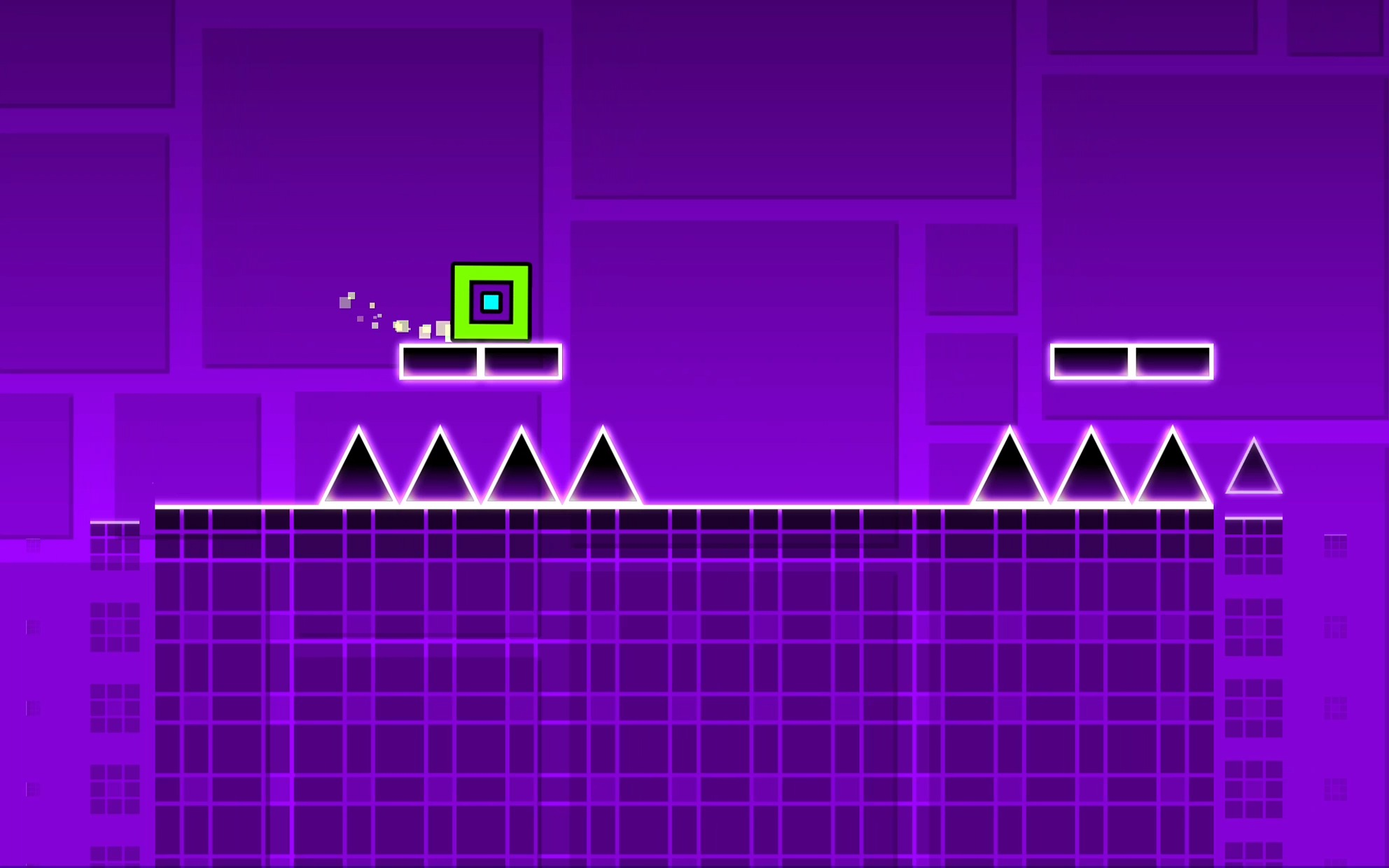Block2: (84, 507, 1306, 868)
Block3: (1129, 345, 1215, 382), (483, 343, 560, 383), (1046, 346, 1136, 378), (400, 346, 482, 381)
Player: (451, 263, 531, 340)
Spike: (566, 426, 641, 503), (321, 426, 395, 502), (973, 426, 1045, 501), (1136, 428, 1208, 503), (403, 427, 475, 501), (1056, 427, 1127, 501), (485, 427, 556, 501), (1227, 438, 1283, 493)
